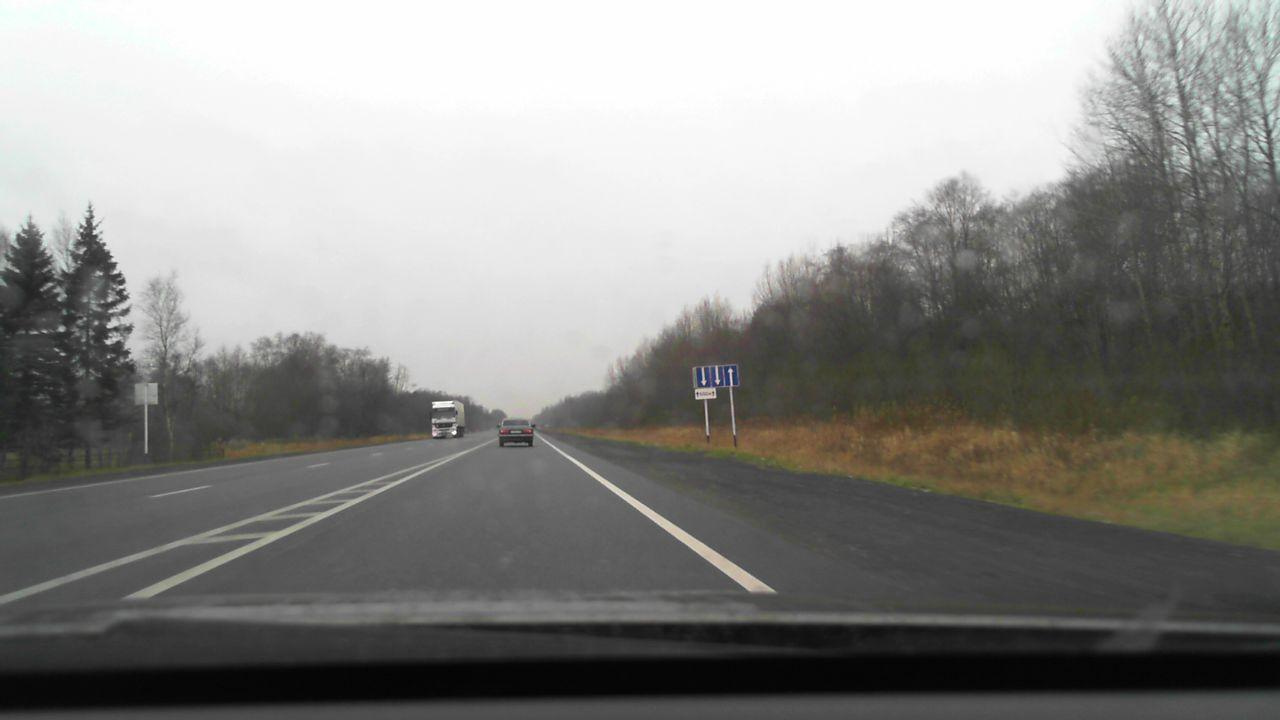5_15_7: (692, 363, 740, 388)
8_2_1: (694, 388, 719, 398)
